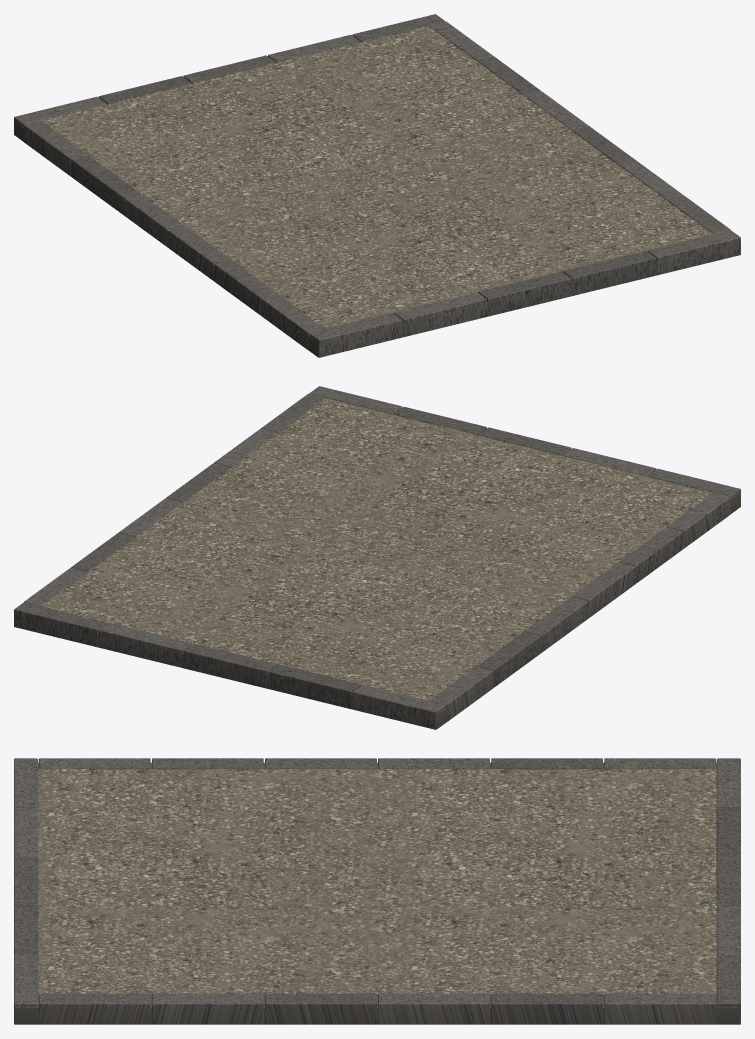
The model's file is floor-gravel-standard.glb.
The picture shows the model from 3 angles, top to bottom: view 1: azimuth 30°, elevation 25°; view 2: azimuth 150°, elevation 25°; view 3: azimuth 270°, elevation 25°; orthographic projection. The views are drawn at different scales.
Parts seen in each view (by area): view 1: Crowned_gravel, Perimeter_granite, Loose_granite_chips; view 2: Crowned_gravel, Perimeter_granite, Loose_granite_chips; view 3: Crowned_gravel, Perimeter_granite, Loose_granite_chips, Compacted_base_and_visible_joints.
Boxes of the visible parts, left/top/right/bottom form: Crowned_gravel: left=41, top=26, right=712, bottom=328; Perimeter_granite: left=14, top=14, right=740, bottom=357; Loose_granite_chips: left=57, top=32, right=683, bottom=315; Crowned_gravel: left=42, top=398, right=713, bottom=700; Perimeter_granite: left=14, top=386, right=740, bottom=729; Loose_granite_chips: left=58, top=414, right=686, bottom=696; Crowned_gravel: left=38, top=768, right=716, bottom=994; Perimeter_granite: left=14, top=758, right=740, bottom=1024; Loose_granite_chips: left=42, top=770, right=712, bottom=991; Compacted_base_and_visible_joints: left=15, top=762, right=739, bottom=1024.
Bounding box in the file's own units: 2.4 × 0.1028 × 3.
4 materials, 2 textured.
